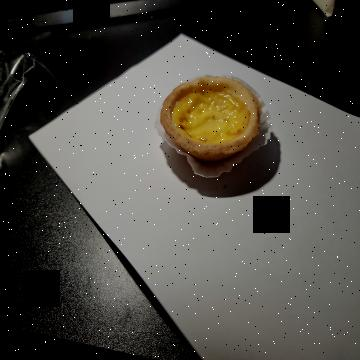EggTart: (160, 74, 262, 163)
